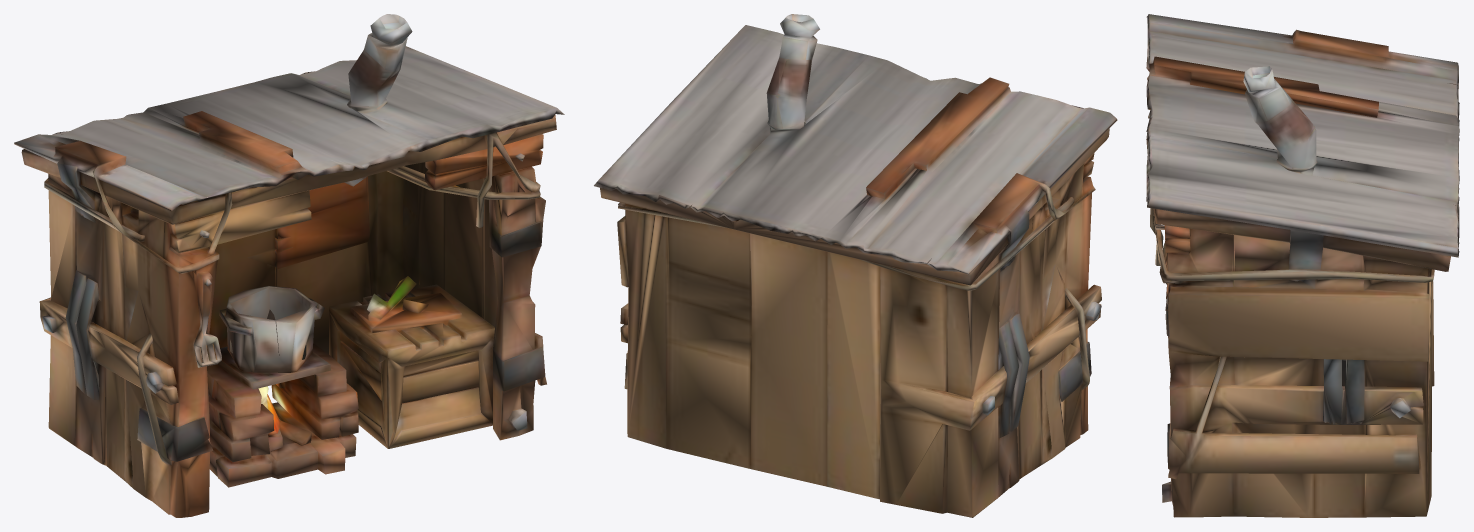
The model's file is chufang-1.glb.
The picture shows the model from 3 angles, left to right: view 1: azimuth 30°, elevation 25°; view 2: azimuth 150°, elevation 25°; view 3: azimuth 270°, elevation 25°; orthographic projection. The views are drawn at different scales.
Visible parts, largest first — view 1: node_0; view 2: node_0; view 3: node_0.
Boxes of the visible parts, box(x1,y1,x2,y2) form: node_0: box(14, 14, 564, 517); node_0: box(594, 14, 1117, 517); node_0: box(1146, 14, 1459, 517).
Size of the model in its own units: 0.8335 by 0.8161 by 0.574.
Materials: 1 (1 with a texture image).
